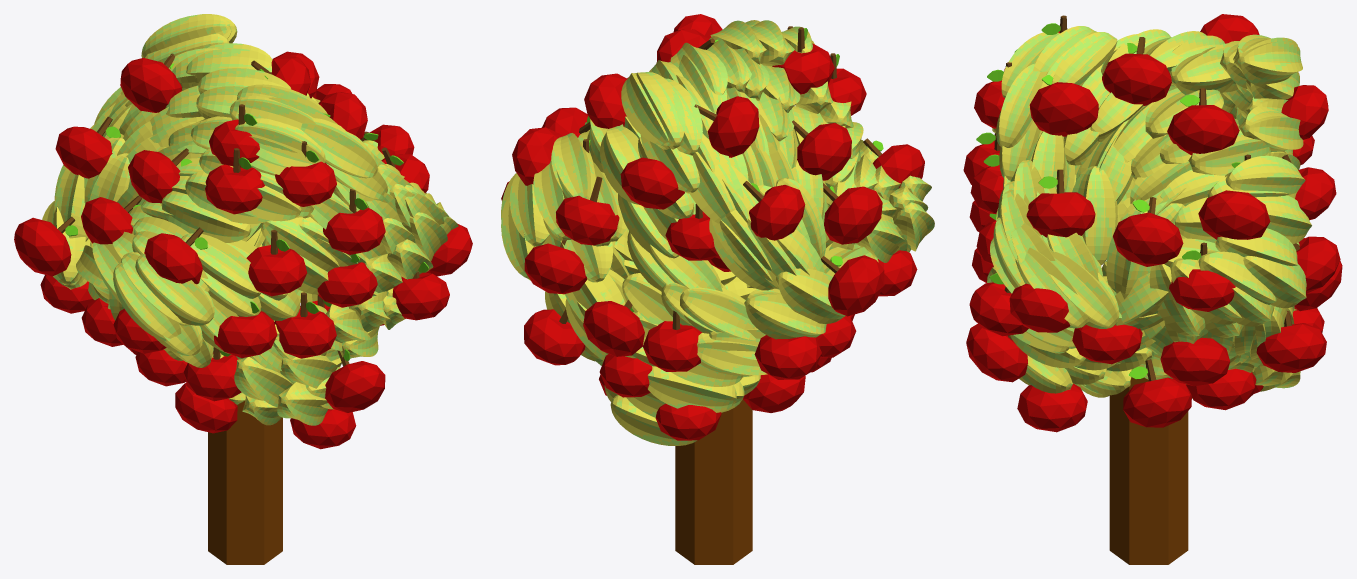
The model's file is Maçarambola.fbx.
The picture shows the model from 3 angles, left to right: view 1: azimuth 30°, elevation 25°; view 2: azimuth 150°, elevation 25°; view 3: azimuth 270°, elevation 25°; orthographic projection. The views are drawn at different scales.
Visible parts, largest first — view 1: Maçarambola, Maça.045, Maça.012, Maça.034, Maça.001, Maça.004, Maça.010, Maça.049, Maça.008, Maça.046, Maça.006, Maça.048 (+17 smaller); view 2: Maçarambola, Maça.045, Maça.002, Maça.022, Maça.023, Maça.049, Maça.041, Maça.034, Maça.050, Maça.025, Maça.028, Maça.015 (+15 smaller); view 3: Maçarambola, Maça.033, Maça.024, Maça.020, Maça.032, Maça.030, Maça.037, Maça.038, Maça.041, Maça.040, Maça.005, Maça.004 (+15 smaller).
Boxes of the visible parts, bbox=[...] form: Maçarambola: bbox=[42, 14, 458, 564]; Maça.045: bbox=[14, 216, 77, 276]; Maça.012: bbox=[246, 230, 307, 296]; Maça.034: bbox=[120, 53, 181, 112]; Maça.001: bbox=[205, 148, 264, 214]; Maça.004: bbox=[325, 349, 385, 412]; Maça.010: bbox=[274, 292, 336, 358]; Maça.049: bbox=[55, 116, 120, 178]; Maça.008: bbox=[323, 189, 385, 254]; Maça.046: bbox=[144, 227, 207, 284]; Maça.006: bbox=[214, 301, 277, 358]; Maça.048: bbox=[275, 141, 336, 206]; Maçarambola: bbox=[501, 20, 934, 564]; Maça.045: bbox=[821, 255, 884, 316]; Maça.002: bbox=[823, 183, 882, 244]; Maça.022: bbox=[583, 299, 644, 356]; Maça.023: bbox=[556, 176, 619, 245]; Maça.049: bbox=[743, 181, 805, 240]; Maça.041: bbox=[524, 309, 585, 365]; Maça.034: bbox=[694, 96, 759, 157]; Maça.050: bbox=[792, 120, 851, 180]; Maça.025: bbox=[524, 240, 586, 294]; Maça.028: bbox=[642, 310, 701, 371]; Maça.015: bbox=[754, 335, 821, 379]; Maçarambola: bbox=[987, 26, 1311, 564]; Maça.033: bbox=[1113, 197, 1183, 266]; Maça.024: bbox=[1167, 88, 1239, 155]; Maça.020: bbox=[1123, 359, 1191, 427]; Maça.032: bbox=[1029, 75, 1098, 136]; Maça.030: bbox=[1102, 37, 1171, 105]; Maça.037: bbox=[1026, 169, 1095, 237]; Maça.038: bbox=[1198, 184, 1270, 239]; Maça.041: bbox=[1256, 311, 1326, 372]; Maça.040: bbox=[1160, 337, 1230, 386]; Maça.005: bbox=[1017, 383, 1087, 432]; Maça.004: bbox=[966, 324, 1027, 382].
Bounding box in the file's own units: 361 × 463 × 307.
6 materials, 1 textured.
